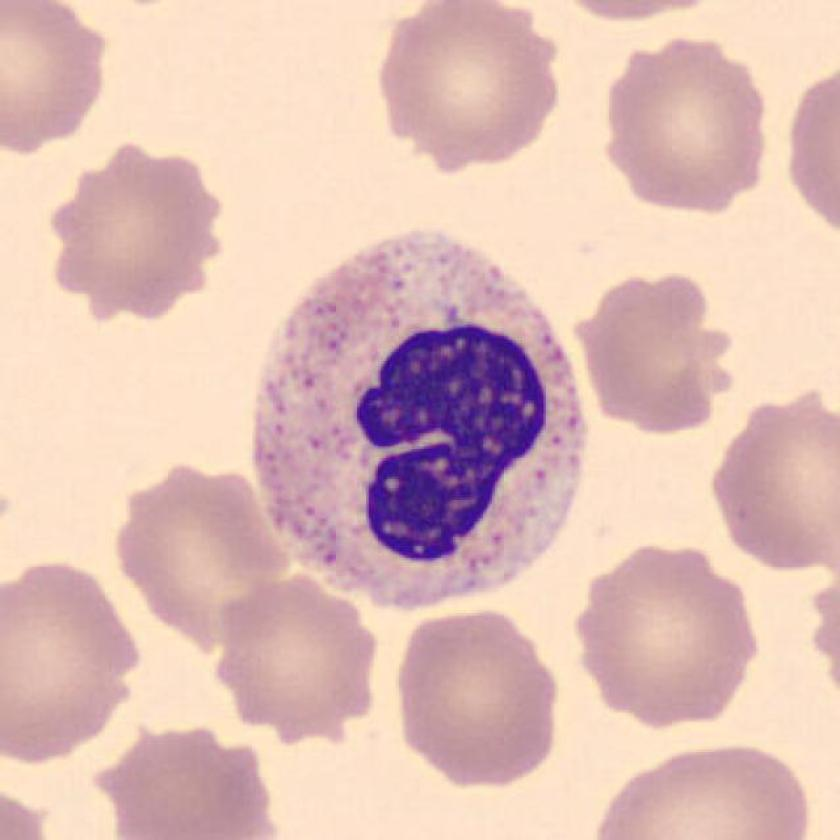neutrophil: (254, 232, 584, 606)
